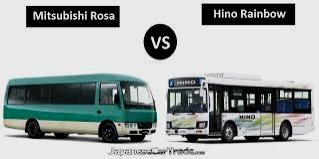bus: (3, 72, 157, 142), (166, 75, 313, 142)
